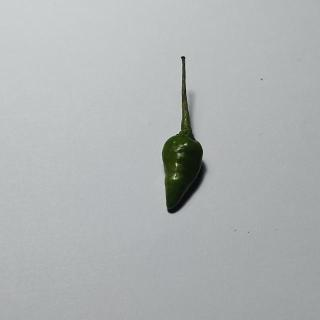Cabai Hijau: (158, 55, 210, 219)
